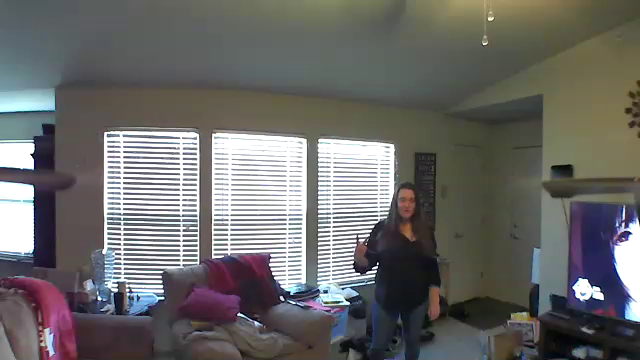peace: (346, 232, 375, 266)
